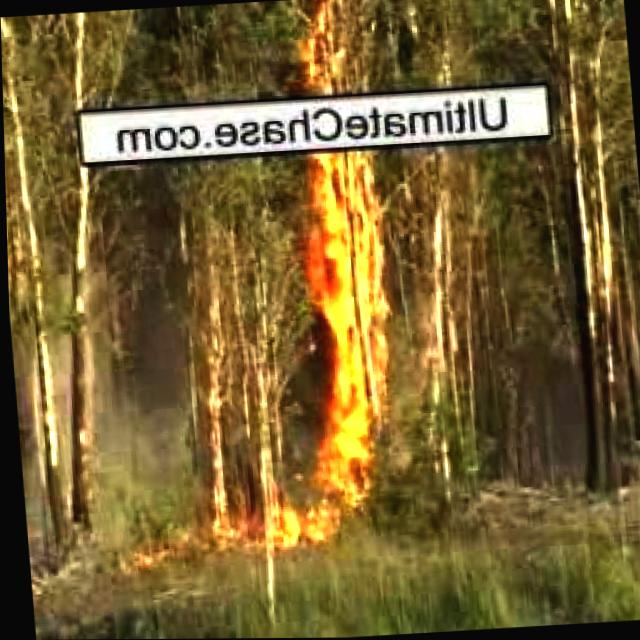helmet: (296, 160, 391, 430), (258, 444, 380, 554), (302, 9, 346, 98)
